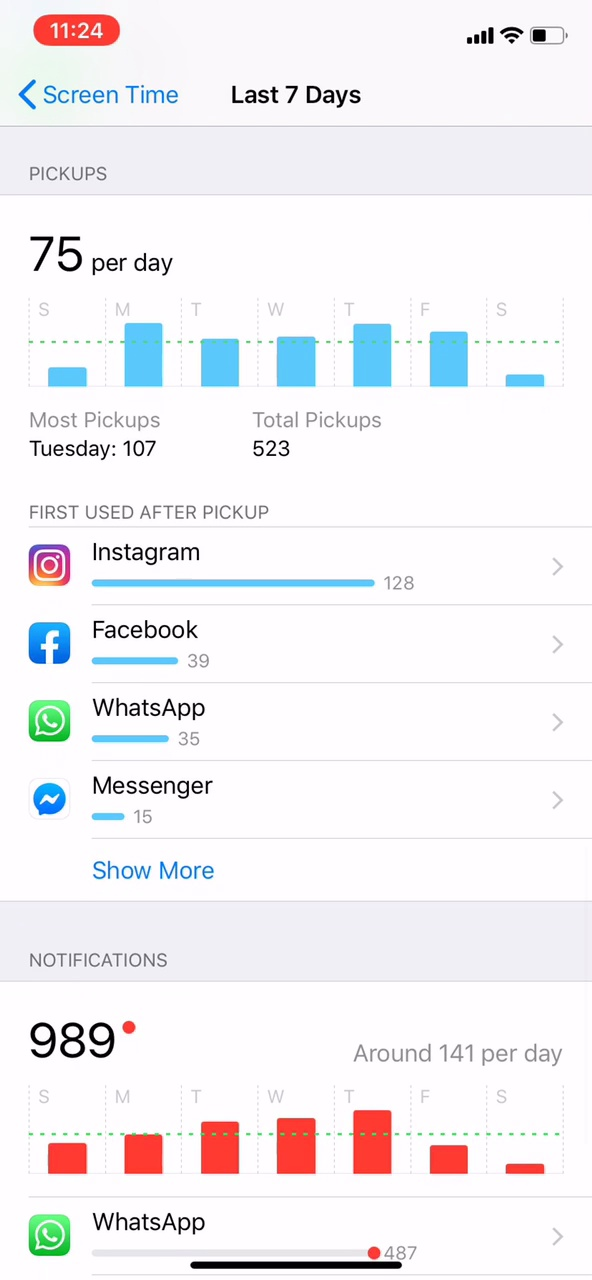not_app: (17, 1207, 437, 1260)
not_over: (7, 928, 225, 1075)
pick_app: (14, 524, 442, 600), (23, 764, 248, 832), (26, 686, 234, 753), (25, 613, 239, 677)
pick_over: (26, 400, 425, 472)
week: (215, 71, 378, 111)
